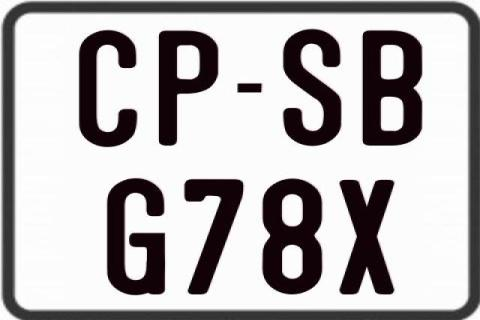0: (262, 178, 324, 296), (181, 179, 240, 296)
B: (361, 29, 424, 145)
C: (77, 30, 136, 148)
G: (105, 176, 169, 293)
P: (157, 31, 222, 149)
S: (282, 28, 342, 146)
X: (338, 178, 398, 294)
